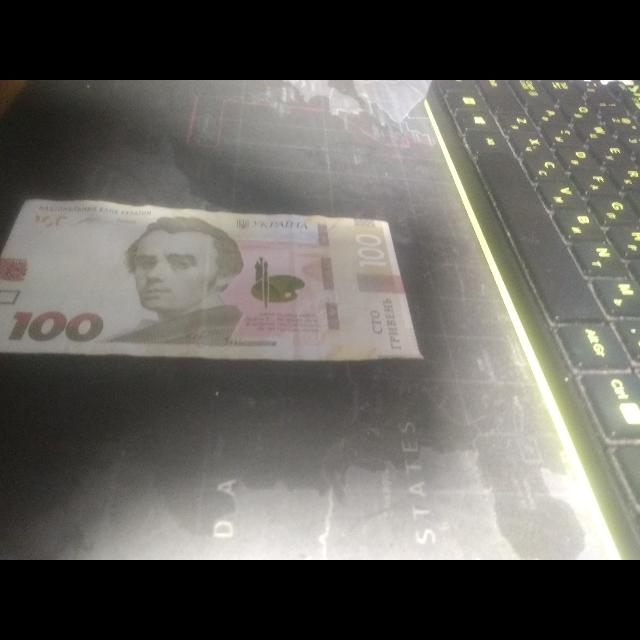100uah: (0, 205, 424, 360)
